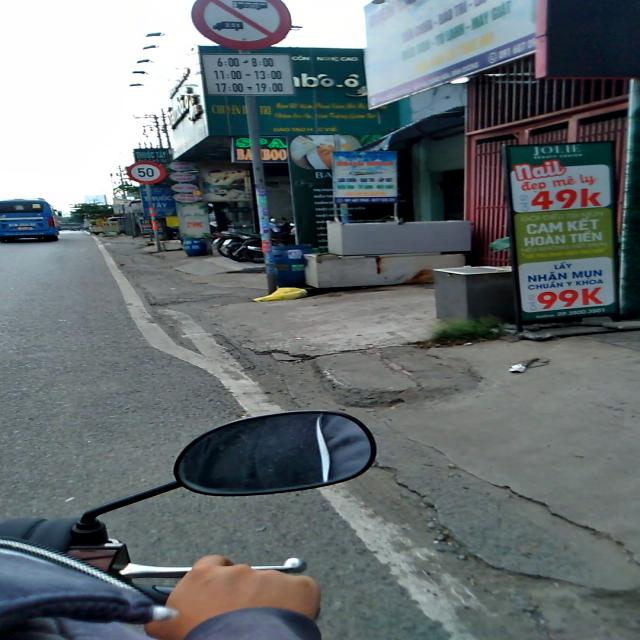P.127: (126, 160, 166, 184)
